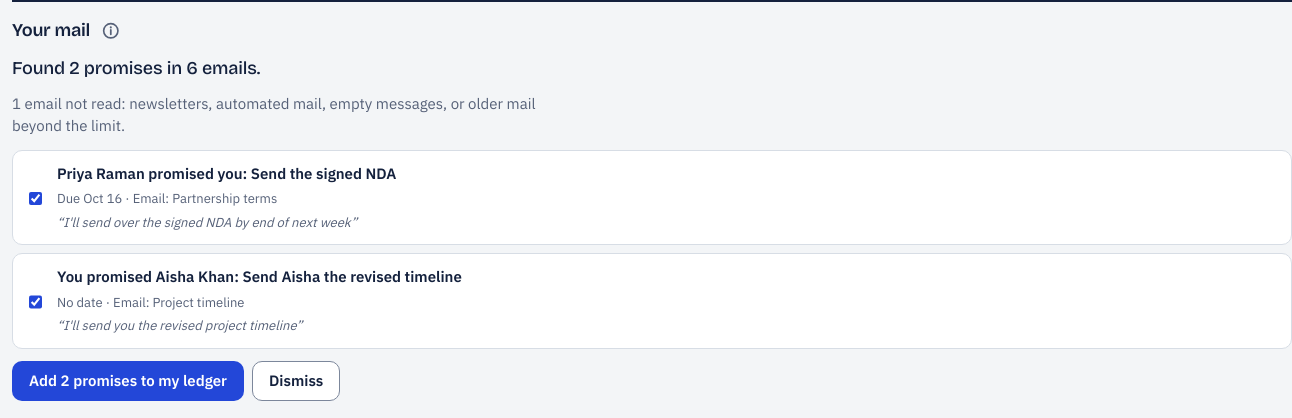
Test: InboxPanel › cannot add when everything is unticked
Click the 1st checkbox. click: click(36, 198)
box: [29,168,42,229]
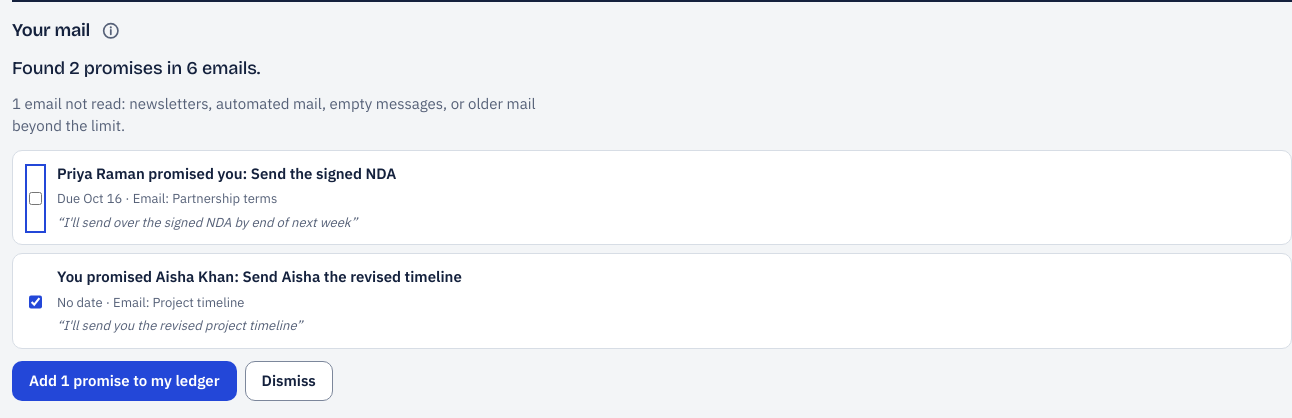
Click the 2nd checkbox. click: click(36, 302)
box: [29,271,42,333]
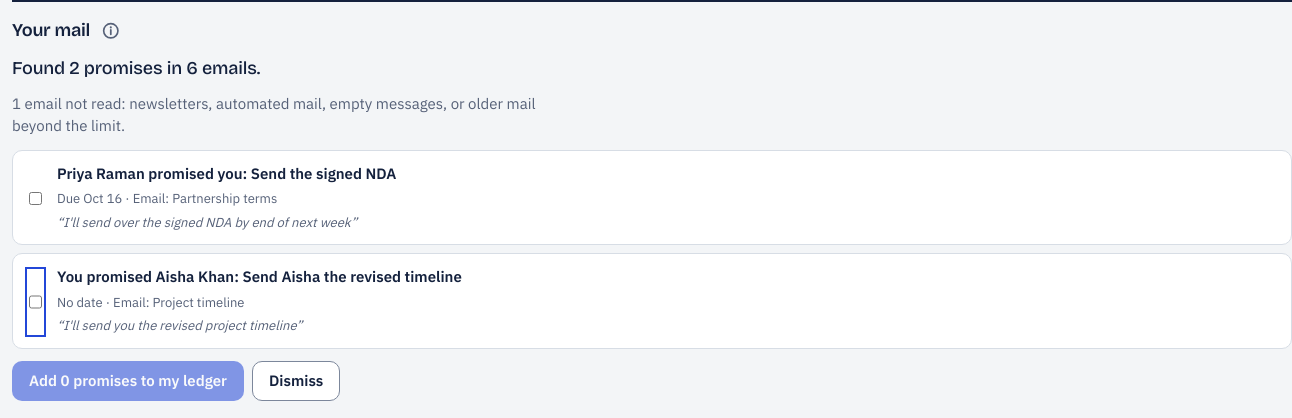
Check: the button "Add 0 promises to my ledger" is disabled, box [12,361,244,401]
